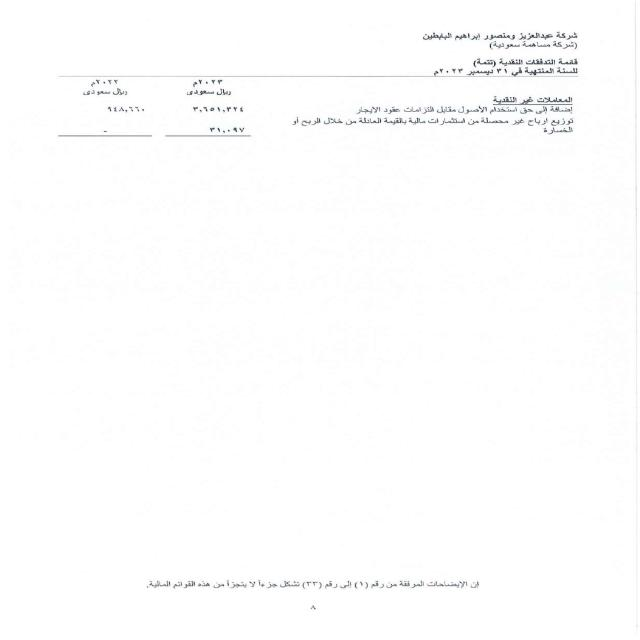financial_sheets: (461, 58, 596, 68)
table: (31, 65, 256, 164)
